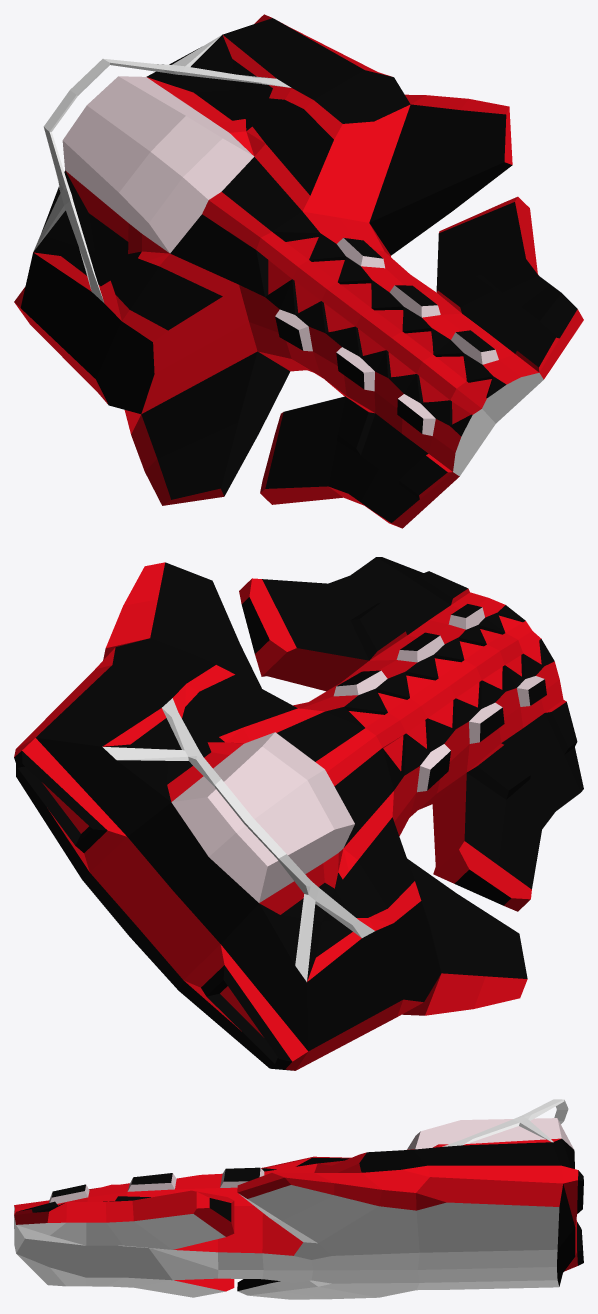
File: car1_blender.fbx
3 renders of one model, top to bottom at view 1: azimuth 30°, elevation 25°; view 2: azimuth 150°, elevation 25°; view 3: azimuth 270°, elevation 25°, orthographic. The views are drawn at different scales.
Parts seen in each view (by area): view 1: Cube; view 2: Cube; view 3: Cube.
Boxes of the visible parts, left/top/right/bottom form: Cube: left=14, top=14, right=583, bottom=528; Cube: left=14, top=557, right=583, bottom=1070; Cube: left=14, top=1099, right=583, bottom=1299.
Bounding box in the file's own units: 665 × 577 × 1156.
